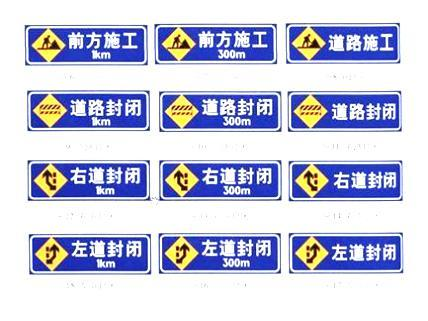sign: (28, 160, 150, 201), (29, 234, 150, 275), (27, 91, 149, 131), (159, 161, 280, 201), (24, 25, 148, 64), (160, 233, 280, 273), (154, 24, 276, 63), (290, 89, 402, 130), (289, 161, 403, 201), (290, 233, 403, 273), (285, 24, 400, 62), (158, 93, 279, 128)
